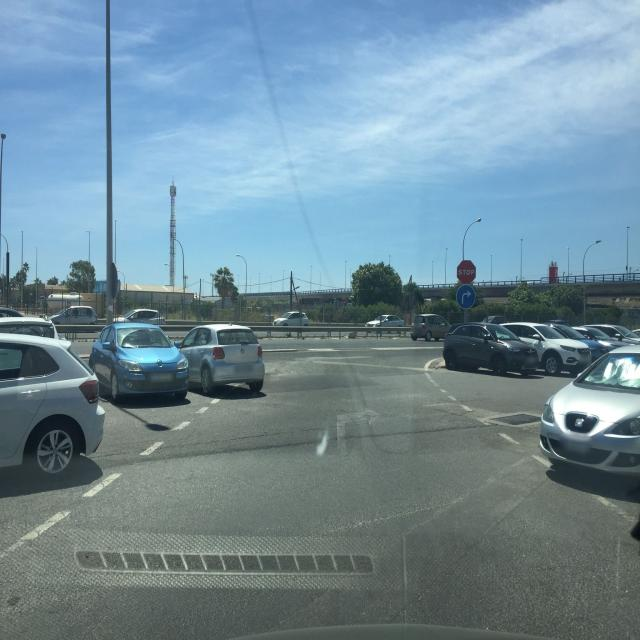car: (0, 331, 105, 487), (538, 345, 640, 491), (89, 322, 190, 402), (177, 322, 265, 396), (485, 322, 593, 376), (443, 322, 540, 376), (48, 305, 106, 332), (0, 315, 58, 341), (411, 314, 452, 341), (589, 324, 640, 343), (124, 308, 162, 325), (364, 314, 406, 329), (273, 311, 309, 328)
